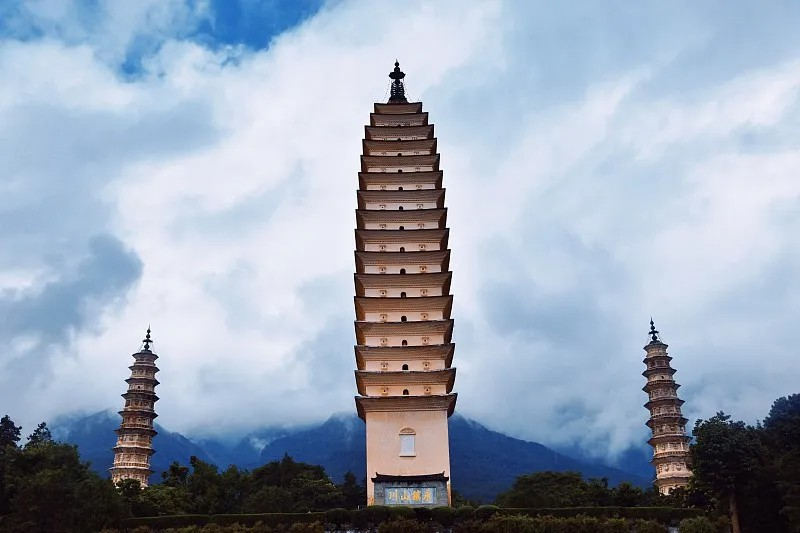ThreePagoda: (354, 59, 458, 505)
